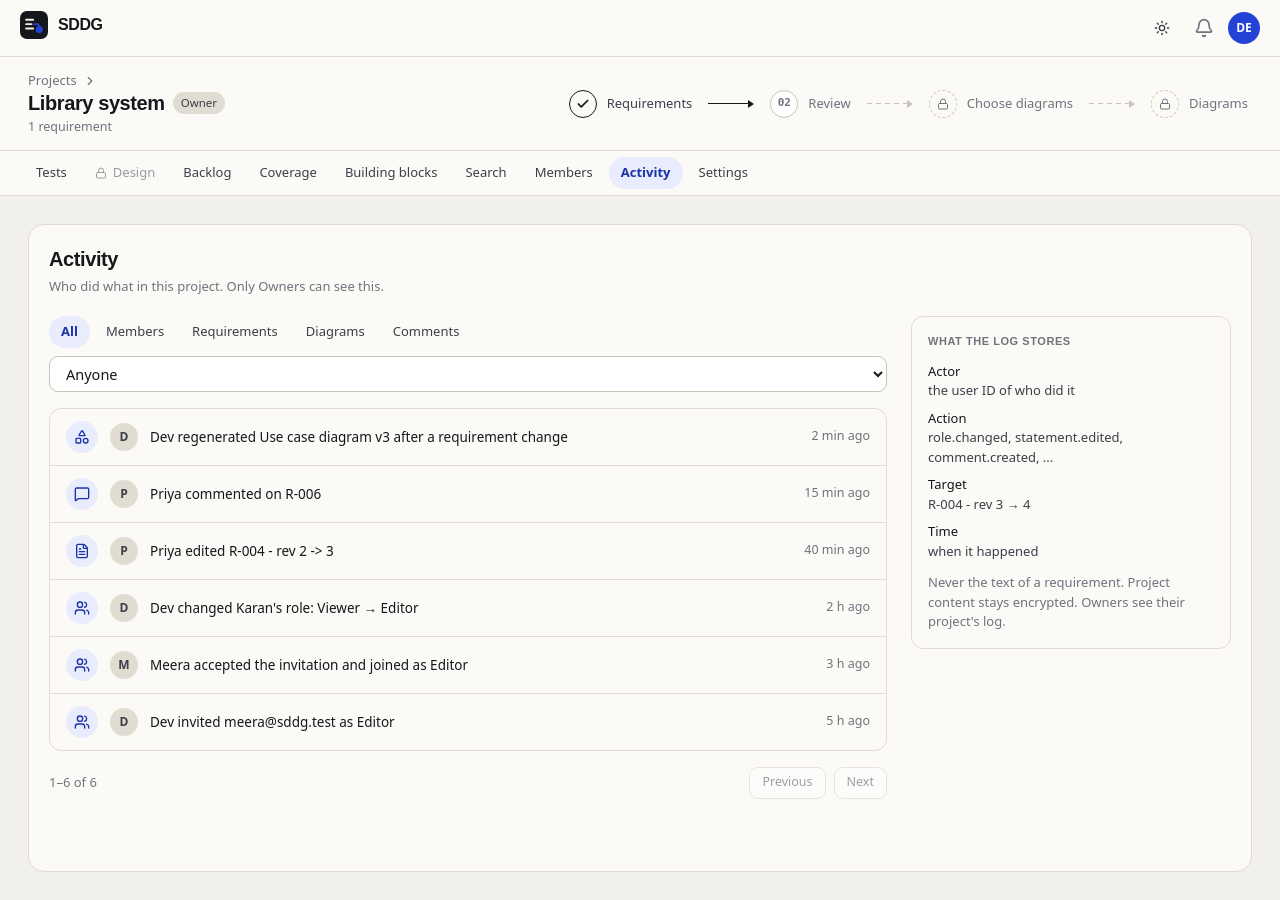
FR22 project Activity tab › filters by what happened and by person
Expected: the text "1–6 of 6" is shown, left=49, top=773, right=97, bottom=792
Click the button "Members" at (135, 332), box left=94, top=316, right=176, bottom=348
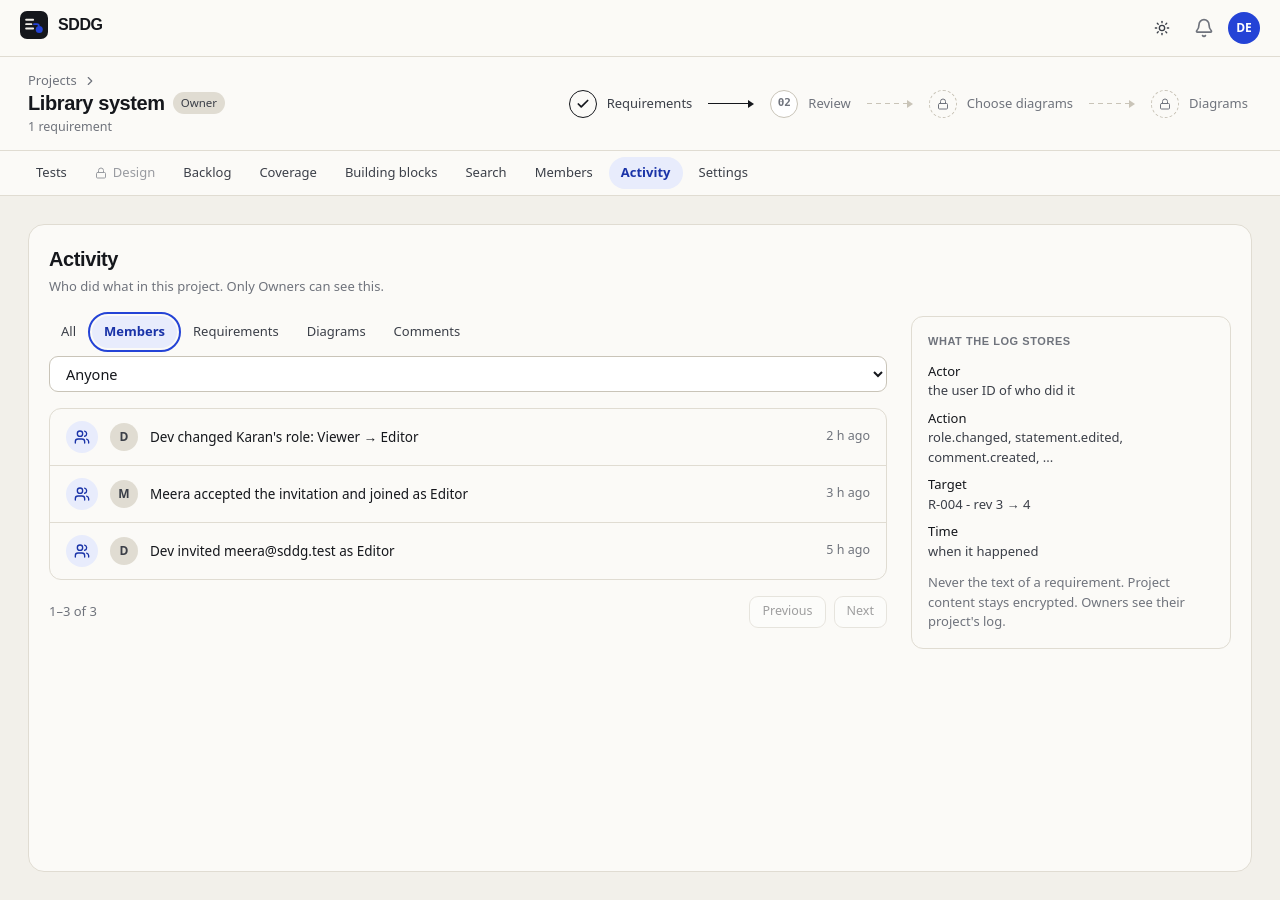
Now the text "1–3 of 3" is shown, box left=49, top=602, right=97, bottom=622
Now the text "Priya commented on R-006" is gone
Click the button "Comments" at (427, 332), box left=382, top=316, right=472, bottom=348
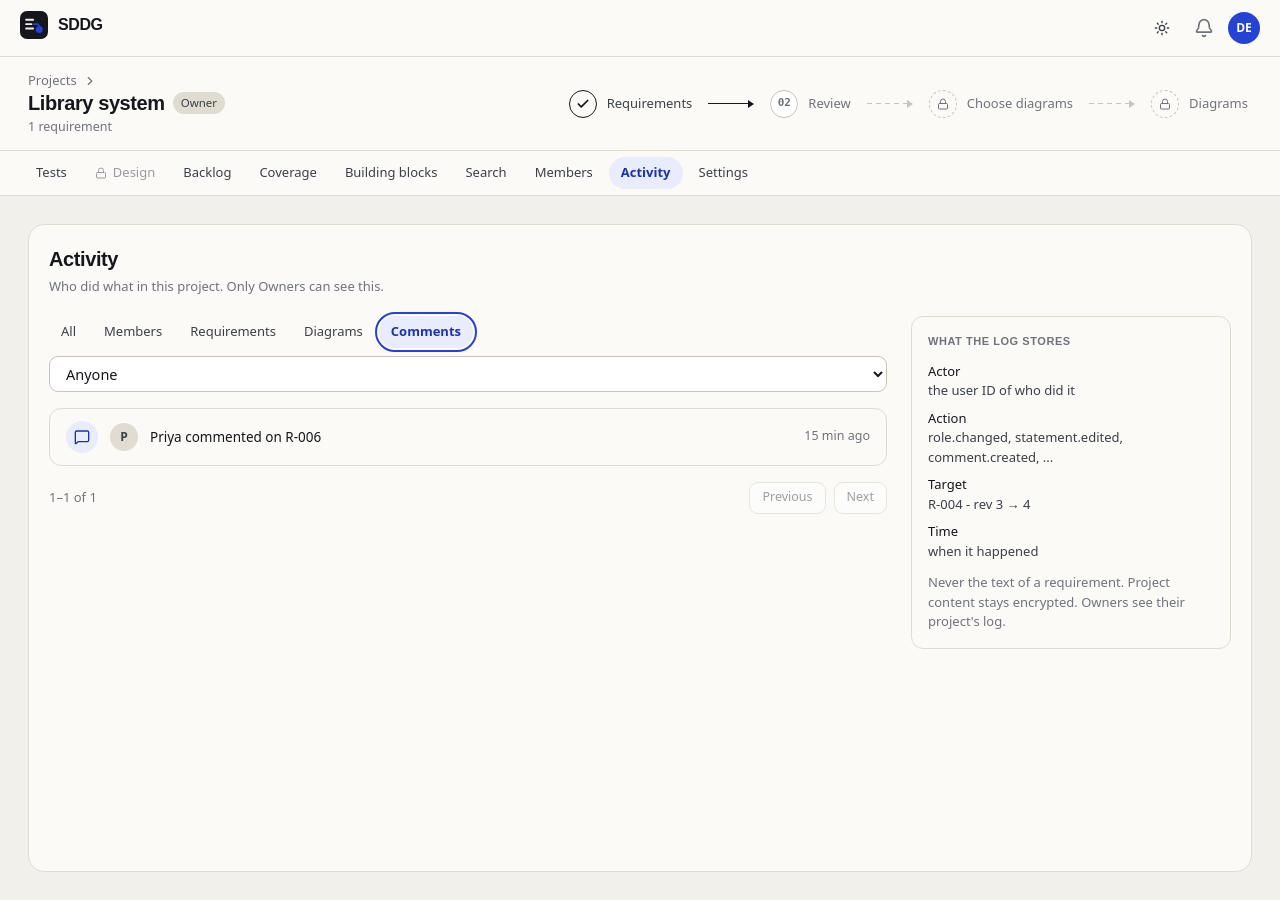
Now the text "1–1 of 1" is shown, box left=49, top=488, right=97, bottom=508
Now the text "Priya commented on R-006" is shown, box left=150, top=428, right=321, bottom=446
Click the button "All" at (68, 332), box left=49, top=316, right=88, bottom=348
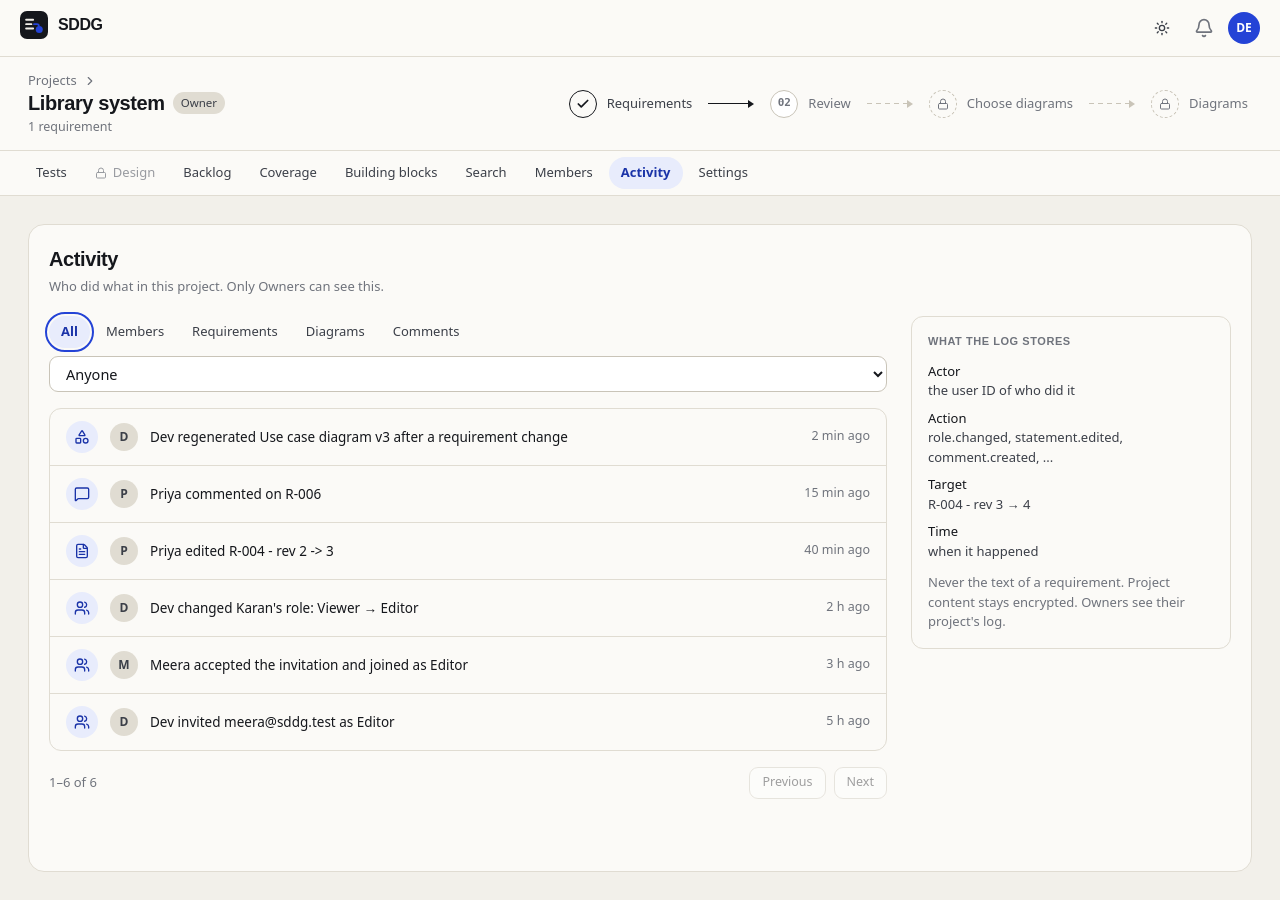
Now the text "1–6 of 6" is shown, box left=49, top=773, right=97, bottom=792
Select "Priya" in the dropdown named "Person" at (468, 374), box left=49, top=356, right=887, bottom=392
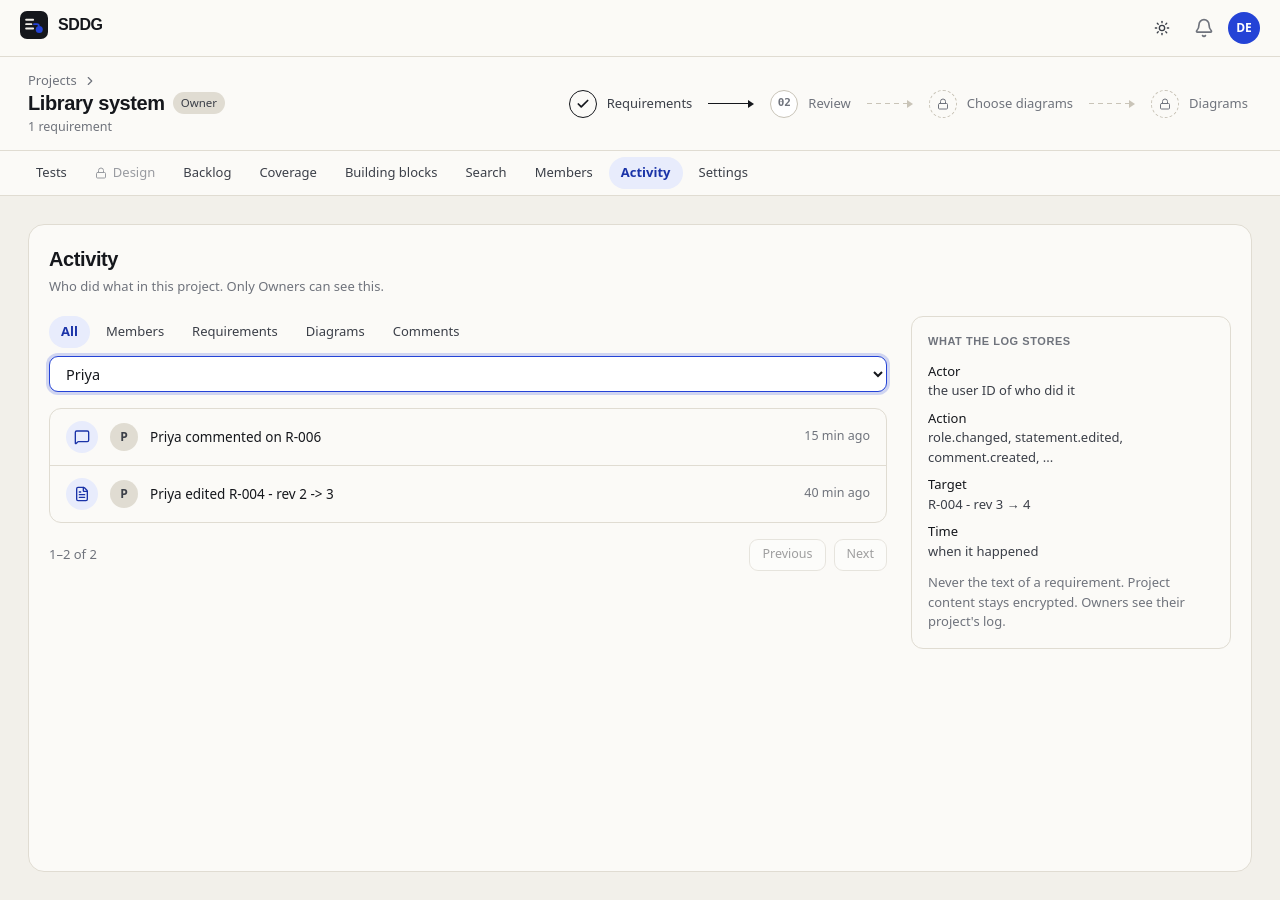
Now the text "1–2 of 2" is shown, box left=49, top=545, right=97, bottom=564
Now the text "invited meera" is gone
